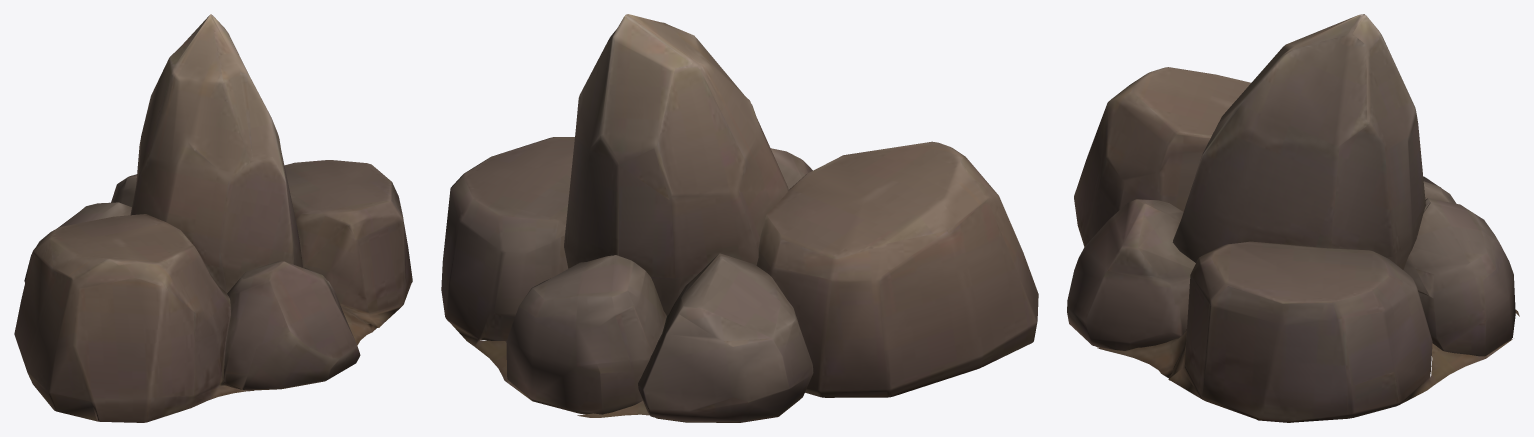
File: border-rock.glb
3 views of the same model, side by side, from view 1: azimuth 30°, elevation 25°; view 2: azimuth 150°, elevation 25°; view 3: azimuth 270°, elevation 25° (orthographic). The views are drawn at different scales.
Visible parts, largest first — view 1: 04_border_rock_cluster_LOD1_P2_04_border_rock_cluster; view 2: 04_border_rock_cluster_LOD1_P2_04_border_rock_cluster; view 3: 04_border_rock_cluster_LOD1_P2_04_border_rock_cluster.
Boxes of the visible parts, x1,y1,x2,y2 form: 04_border_rock_cluster_LOD1_P2_04_border_rock_cluster: (14, 14, 412, 422); 04_border_rock_cluster_LOD1_P2_04_border_rock_cluster: (441, 14, 1038, 422); 04_border_rock_cluster_LOD1_P2_04_border_rock_cluster: (1067, 14, 1519, 422).
Size of the model in its own units: 1 by 0.6413 by 0.8227.
Materials: 1 (1 with a texture image).
